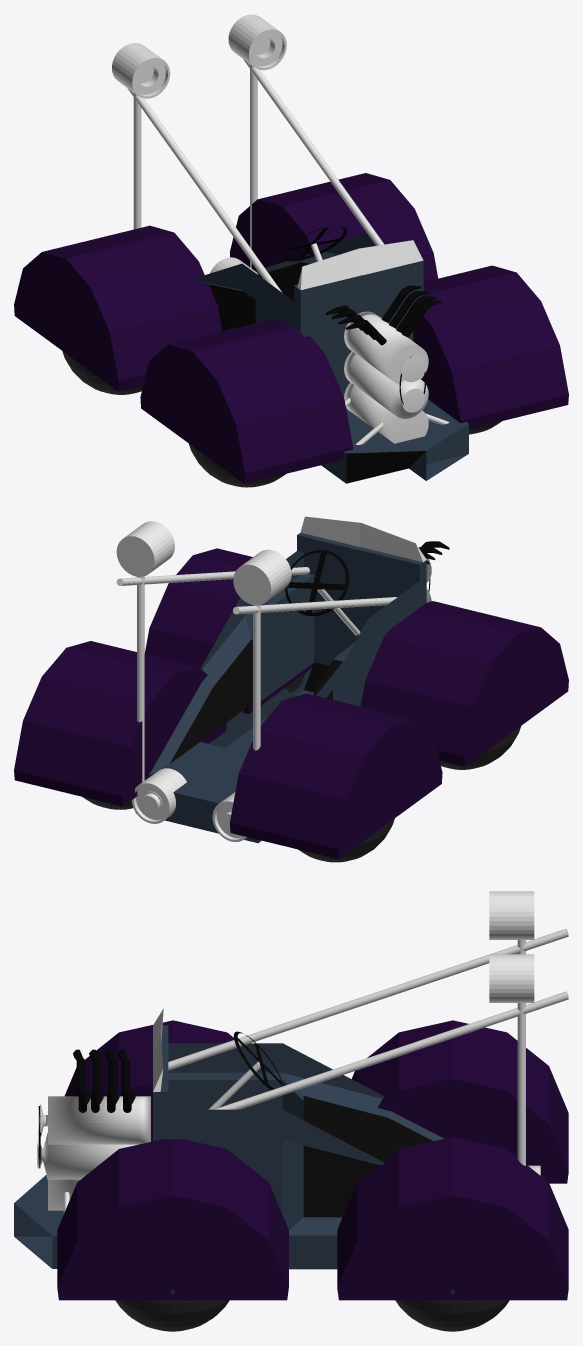
The model's file is Player2.fbx.
The picture shows the model from 3 angles, top to bottom: view 1: azimuth 30°, elevation 25°; view 2: azimuth 150°, elevation 25°; view 3: azimuth 270°, elevation 25°; orthographic projection. The views are drawn at different scales.
Parts seen in each view (by area): view 1: Cylinder.001, Cylinder.003, Cube, Cylinder.002, Cylinder.000, Cylinder.019, Cylinder.018, Cylinder.030, Cylinder.031, Cylinder.004, Cylinder.029, Cylinder.028 (+5 smaller); view 2: Cube, Cylinder.003, Cylinder.001, Cylinder.000, Cylinder.002, Cylinder.031, Cylinder.030, Cylinder.032, Cylinder.026, Cylinder.029, Circle, Cylinder.027 (+4 smaller); view 3: Cube, Cylinder.002, Cylinder.000, Cylinder.003, Cylinder.019, Cylinder.001, Cylinder.029, Cylinder.028, fr.002, fr.003, Cylinder.018, Cylinder.030 (+4 smaller).
Boxes of the visible parts, <box> form: Cylinder.001: <box>140,318,352,483</box>; Cylinder.003: <box>14,225,222,391</box>; Cube: <box>196,233,468,483</box>; Cylinder.002: <box>413,265,568,428</box>; Cylinder.000: <box>230,173,438,281</box>; Cylinder.019: <box>344,311,428,384</box>; Cylinder.018: <box>344,351,428,418</box>; Cylinder.030: <box>228,14,286,70</box>; Cylinder.031: <box>112,43,170,98</box>; Cylinder.004: <box>344,382,428,443</box>; Cylinder.029: <box>127,88,282,292</box>; Cylinder.028: <box>243,59,384,245</box>; Cube: <box>135,516,426,843</box>; Cylinder.003: <box>230,693,442,859</box>; Cylinder.001: <box>360,601,568,766</box>; Cylinder.000: <box>14,641,226,806</box>; Cylinder.002: <box>144,548,313,713</box>; Cylinder.031: <box>233,549,291,605</box>; Cylinder.030: <box>116,521,174,576</box>; Cylinder.032: <box>131,768,186,823</box>; Cylinder.026: <box>137,576,144,781</box>; Cylinder.029: <box>233,597,397,614</box>; Circle: <box>285,550,349,616</box>; Cylinder.027: <box>253,605,260,750</box>; Cube: <box>14,1009,444,1269</box>; Cylinder.002: <box>57,1139,288,1300</box>; Cylinder.000: <box>337,1137,568,1300</box>; Cylinder.003: <box>352,1020,568,1183</box>; Cylinder.019: <box>38,1096,150,1144</box>; Cylinder.001: <box>64,1020,234,1141</box>; Cylinder.029: <box>168,929,568,1070</box>; Cylinder.028: <box>214,991,568,1109</box>; fr.002: <box>115,1289,229,1331</box>; fr.003: <box>395,1289,509,1331</box>; Cylinder.018: <box>37,1132,137,1180</box>; Cylinder.030: <box>489,954,534,1002</box>.
Size of the model in its own units: 341 by 309 by 457.
